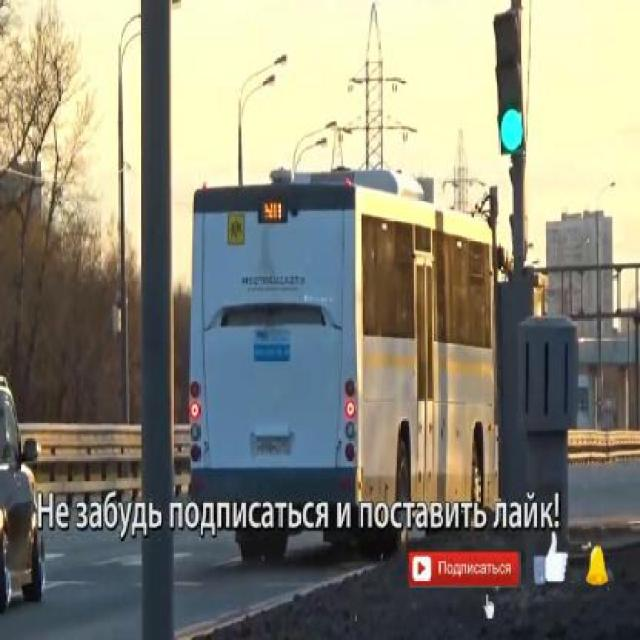bus: (194, 164, 498, 552)
